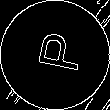P_W: (26, 32, 84, 78)
